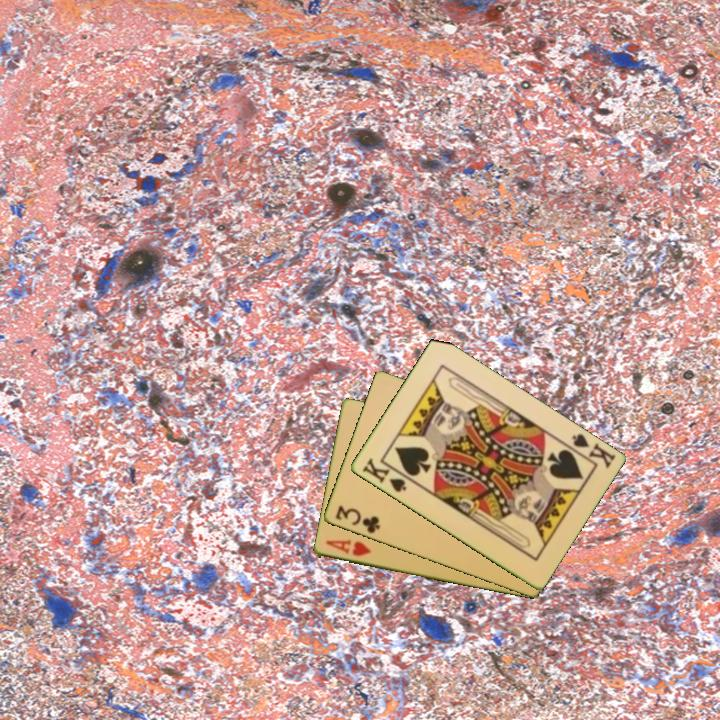3c: (331, 502, 383, 537)
Ah: (322, 537, 373, 560)
Ks: (562, 430, 618, 472), (358, 454, 409, 495)
